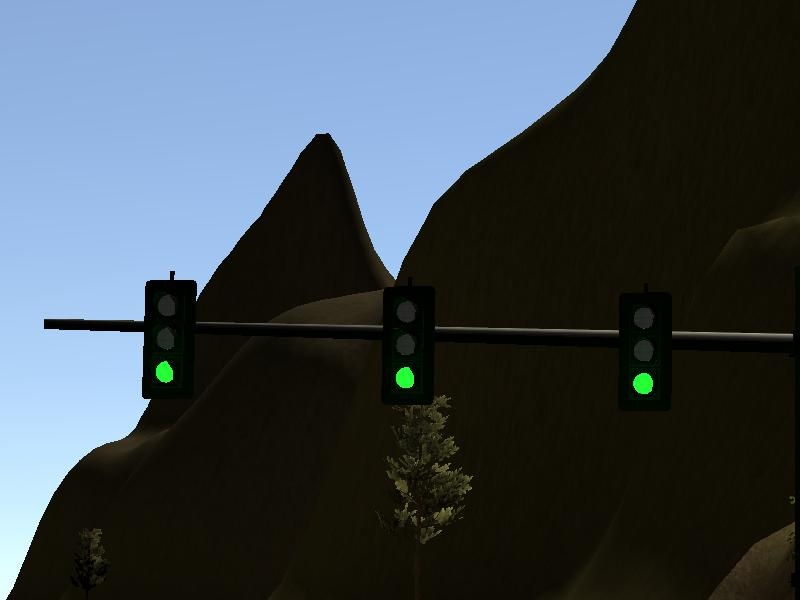green: (139, 269, 198, 414), (378, 271, 436, 412), (612, 289, 675, 416)
